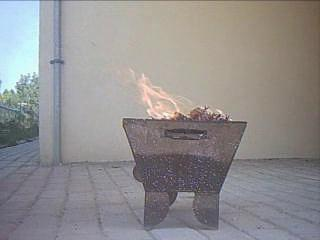fire: (133, 74, 192, 115)
